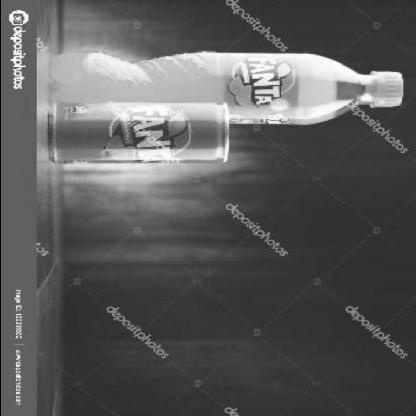alumunium_can: (40, 100, 232, 166)
objects: (46, 48, 408, 127)
